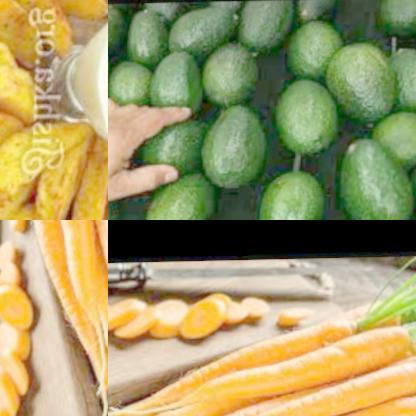avocado: (333, 134, 411, 220), (194, 101, 272, 185), (248, 151, 330, 220), (330, 44, 398, 124), (266, 82, 346, 150), (284, 16, 351, 85), (147, 170, 231, 220), (231, 1, 297, 58), (165, 5, 237, 56), (149, 44, 199, 117), (206, 33, 264, 94), (108, 46, 157, 107), (118, 10, 164, 65), (381, 37, 416, 103), (375, 108, 416, 161), (373, 0, 416, 27), (406, 145, 416, 220)
carrot: (108, 278, 416, 416), (0, 220, 108, 404), (147, 344, 416, 416), (108, 277, 311, 330), (43, 220, 108, 358), (0, 220, 26, 416)
potato: (0, 0, 107, 128), (0, 97, 108, 220)
